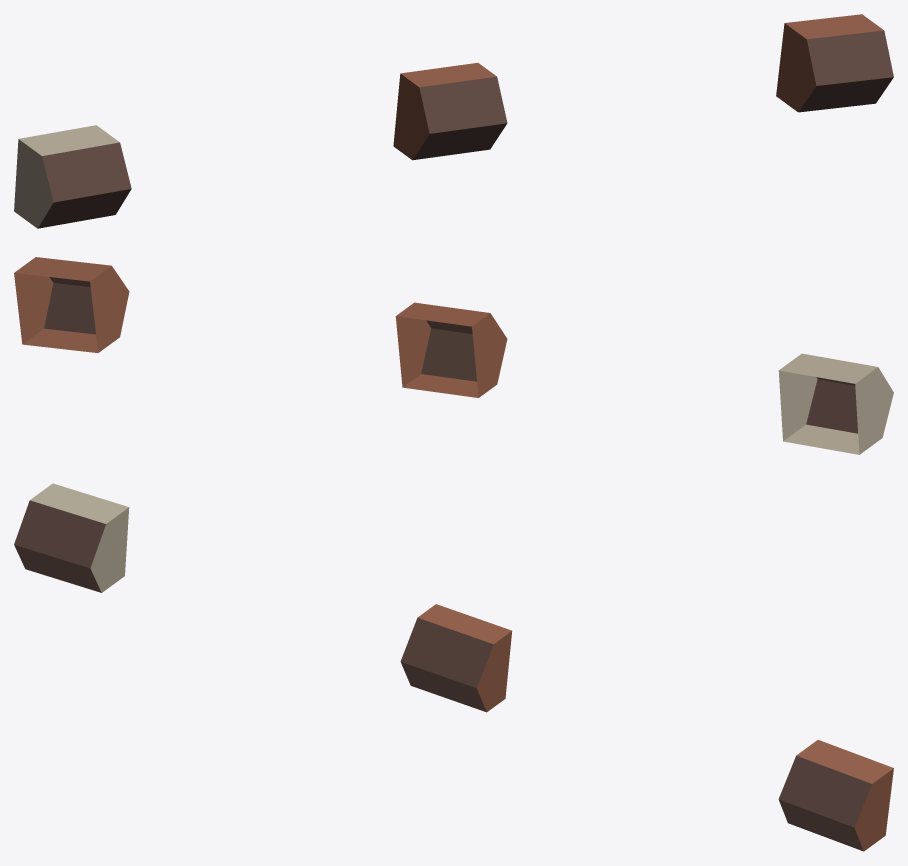
The model's file is island_bldg_04_08.obj.
3 views of the same model, one above another, from view 1: azimuth 30°, elevation 25°; view 2: azimuth 150°, elevation 25°; view 3: azimuth 330°, elevation 25° (orthographic). The views are drawn at different scales.
Visible parts, largest first — view 1: island_bldg_04_08; view 2: island_bldg_04_08; view 3: island_bldg_04_08.
Part boxes in pixels (bbox=[...]): island_bldg_04_08: bbox=[14, 14, 893, 228]; island_bldg_04_08: bbox=[14, 257, 893, 454]; island_bldg_04_08: bbox=[14, 483, 893, 851].
Size of the model in its own units: 175 by 31.24 by 16.01.
